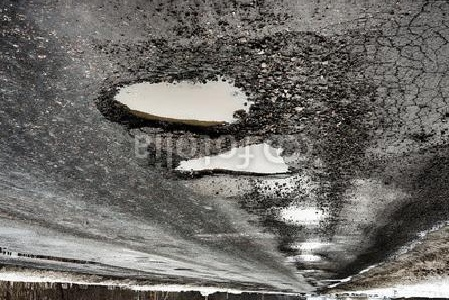pothole: (95, 73, 268, 141), (167, 141, 297, 183), (277, 203, 330, 229), (285, 241, 328, 253), (288, 254, 323, 264)
